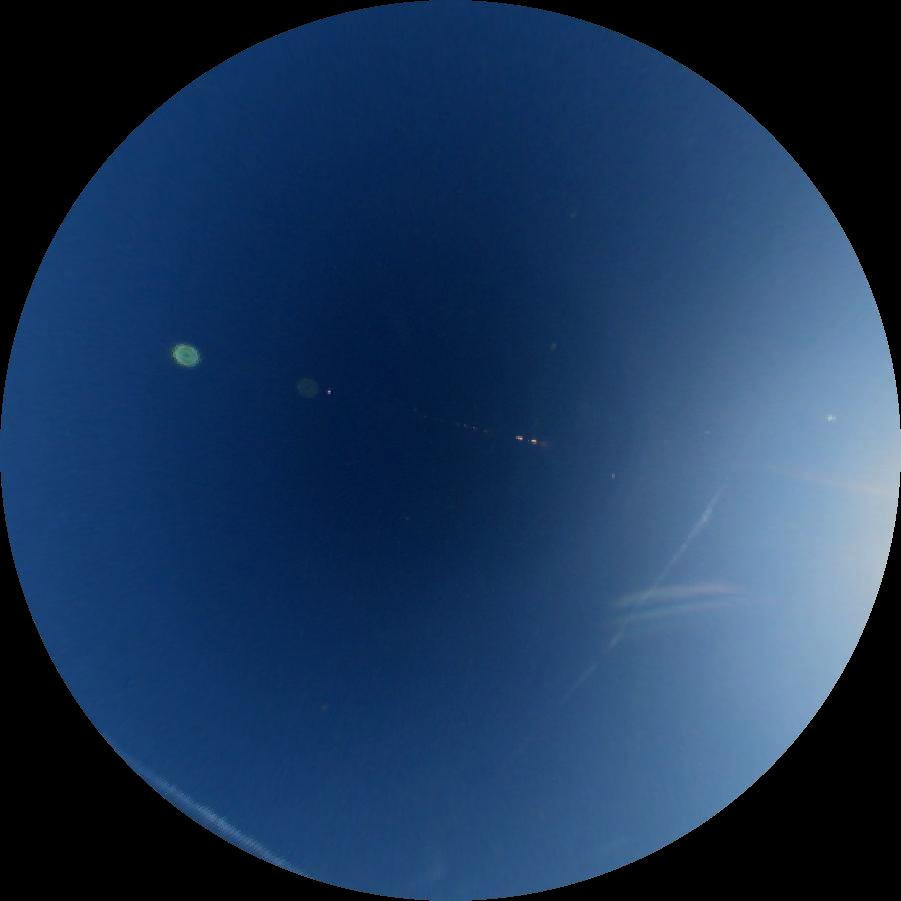contrail old: (556, 489, 728, 712), (108, 741, 311, 886)
parasite: (603, 577, 741, 609)
